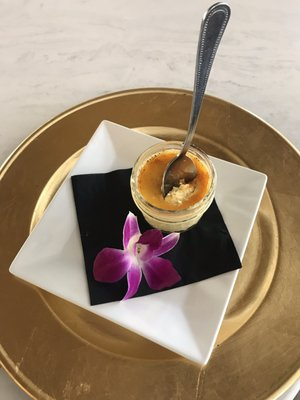pizza: (129, 141, 217, 233)
salad: (158, 1, 231, 210)
